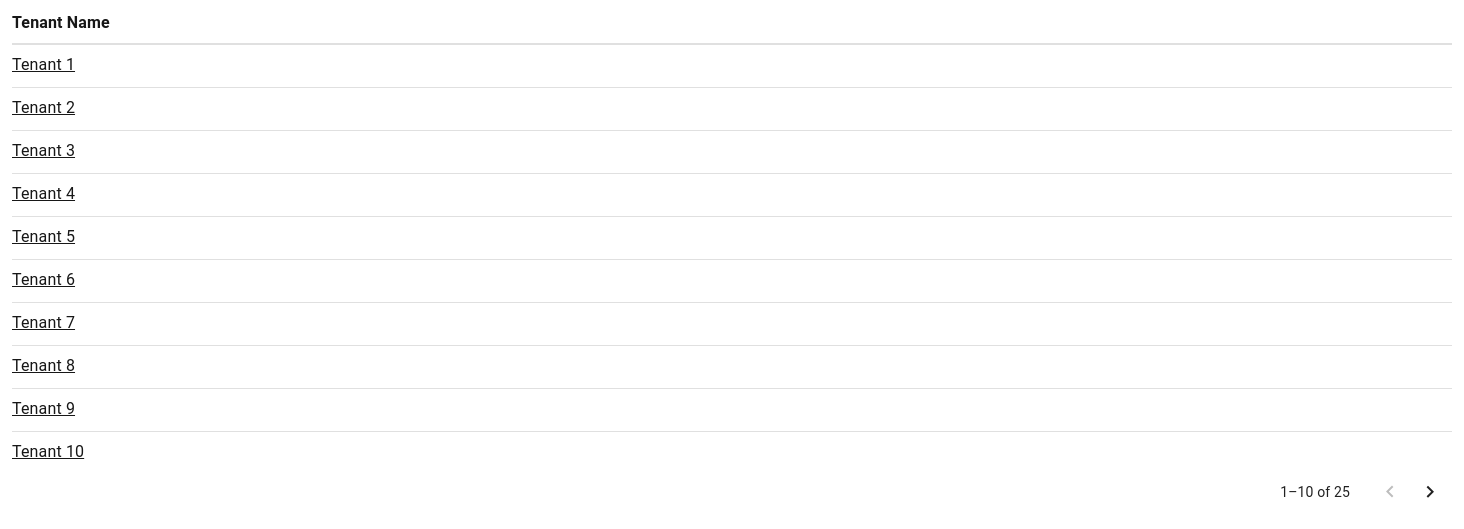
FederatedOIDCProviderTenantConfiguration - Pagination › should navigate to page 2 when next button is clicked
This screenshot has width=1464, height=529.
Expected: the link "Tenant 1" is shown, [12,55,75,74]
Click the button named "next page" at (1430, 492), box [1410,472,1450,512]
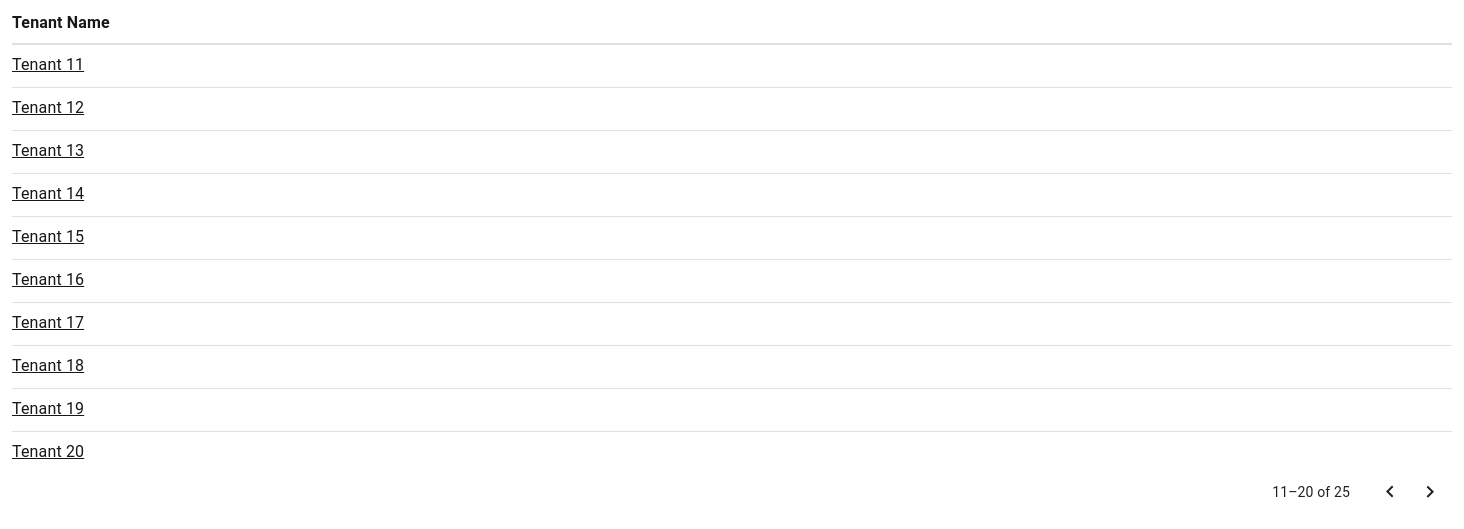
Result: the link "Tenant 11" is shown at [12,55,84,74]
Result: the link "Tenant 20" is shown at [12,442,84,461]
